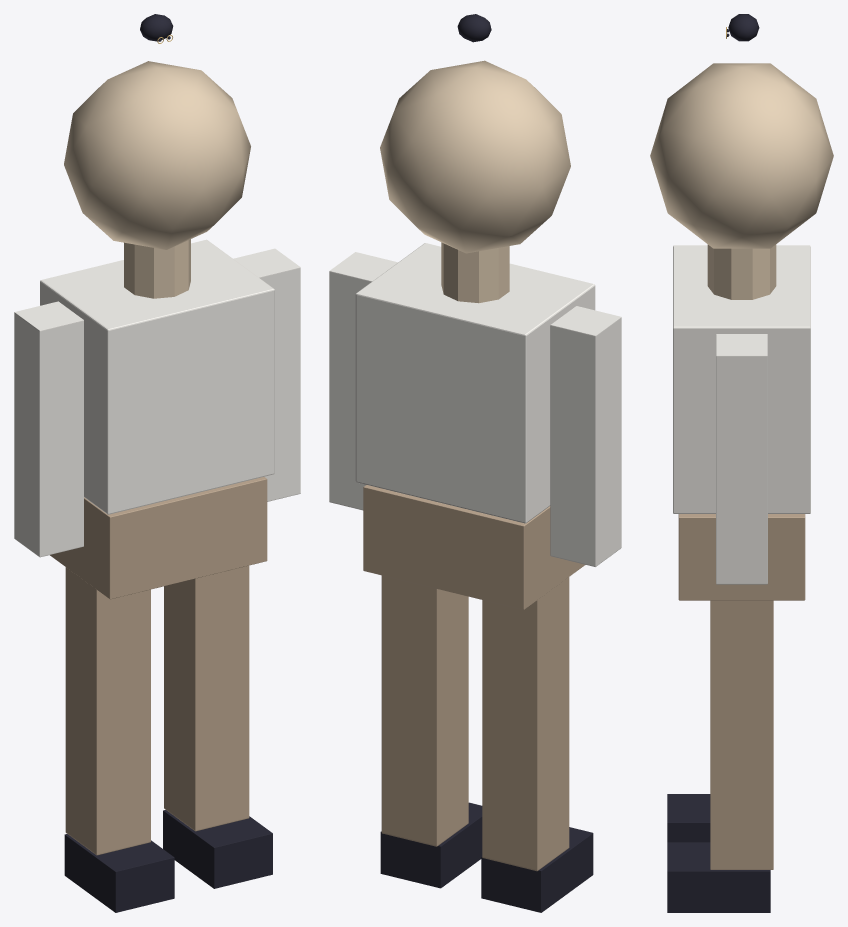
Rendered from joon-barista.glb.
3 renders of one model, left to right at view 1: azimuth 30°, elevation 25°; view 2: azimuth 150°, elevation 25°; view 3: azimuth 270°, elevation 25°, orthographic. The views are drawn at different scales.
Visible parts, largest first — view 1: joon-barista_Body, joon-barista_Head, joon-barista_LeftLeg, joon-barista_RightLeg, joon-barista_LeftArm, joon-barista_Hips, joon-barista_RightArm, joon-barista_LeftShoe, joon-barista_RightShoe, joon-barista_Neck, joon-barista_Hair; view 2: joon-barista_Body, joon-barista_Head, joon-barista_LeftLeg, joon-barista_RightLeg, joon-barista_LeftArm, joon-barista_Hips, joon-barista_RightArm, joon-barista_LeftShoe, joon-barista_RightShoe, joon-barista_Neck, joon-barista_Hair; view 3: joon-barista_Head, joon-barista_Body, joon-barista_RightLeg, joon-barista_RightArm, joon-barista_Hips, joon-barista_RightShoe, joon-barista_Neck, joon-barista_LeftShoe, joon-barista_Hair.
Boxes of the visible parts, x1,y1,x2,y2 form: joon-barista_Body: [40, 239, 274, 514]; joon-barista_Head: [64, 61, 250, 249]; joon-barista_LeftLeg: [65, 567, 150, 855]; joon-barista_RightLeg: [164, 565, 249, 831]; joon-barista_LeftArm: [14, 301, 83, 557]; joon-barista_Hips: [50, 477, 267, 599]; joon-barista_RightArm: [233, 248, 300, 501]; joon-barista_LeftShoe: [64, 834, 174, 912]; joon-barista_RightShoe: [163, 810, 272, 888]; joon-barista_Neck: [124, 239, 190, 298]; joon-barista_Hair: [140, 14, 173, 41]; joon-barista_Body: [355, 243, 595, 523]; joon-barista_Head: [380, 60, 570, 253]; joon-barista_LeftLeg: [482, 577, 569, 871]; joon-barista_RightLeg: [381, 575, 468, 846]; joon-barista_LeftArm: [550, 306, 621, 566]; joon-barista_Hips: [363, 485, 585, 609]; joon-barista_RightArm: [329, 252, 397, 510]; joon-barista_LeftShoe: [481, 827, 593, 912]; joon-barista_RightShoe: [380, 802, 482, 888]; joon-barista_Neck: [441, 242, 509, 303]; joon-barista_Hair: [457, 14, 491, 42]; joon-barista_Head: [650, 63, 833, 248]; joon-barista_Body: [673, 245, 810, 513]; joon-barista_RightLeg: [710, 600, 773, 869]; joon-barista_RightArm: [716, 334, 767, 584]; joon-barista_Hips: [678, 514, 805, 600]; joon-barista_RightShoe: [667, 842, 770, 912]; joon-barista_Neck: [707, 244, 776, 299]; joon-barista_LeftShoe: [667, 794, 710, 842]; joon-barista_Hair: [728, 14, 759, 41].
Bounding box in the file's own units: 0.53 × 1.65 × 0.32.
